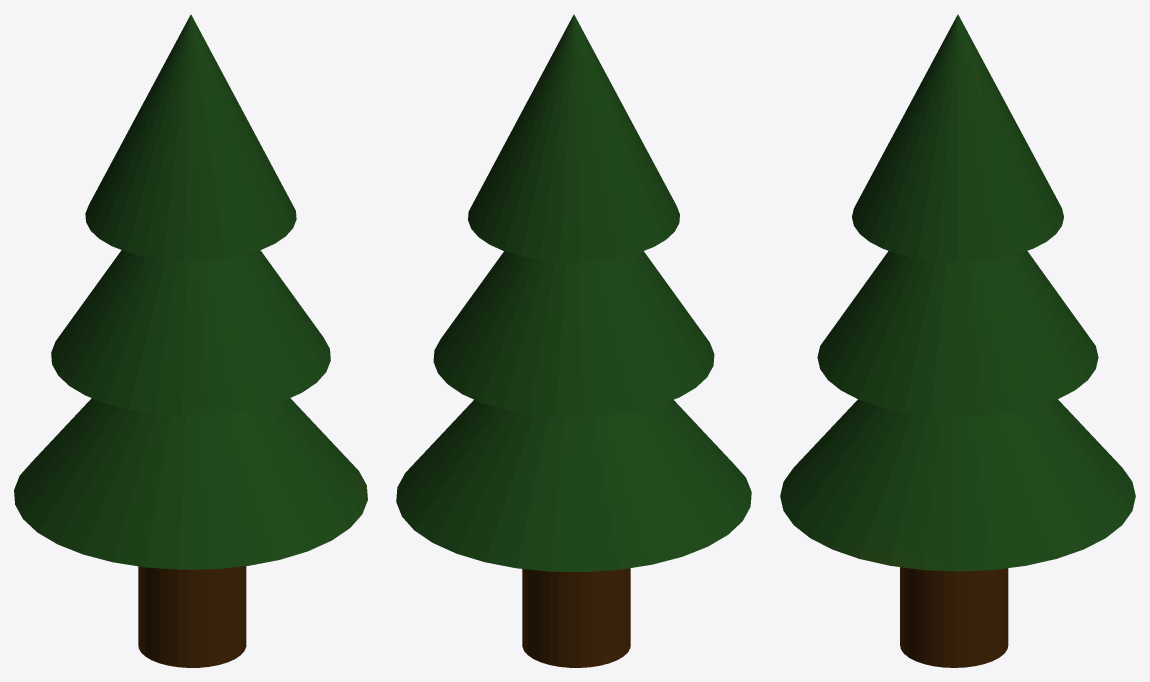
The model's file is Дерево.fbx.
The picture shows the model from 3 angles, left to right: view 1: azimuth 30°, elevation 25°; view 2: azimuth 150°, elevation 25°; view 3: azimuth 270°, elevation 25°; orthographic projection.
Visible parts, largest first — view 1: Дерево; view 2: Дерево; view 3: Дерево.
Boxes of the visible parts, box(x1,y1,x2,y2) form: Дерево: box(14, 14, 367, 667); Дерево: box(396, 14, 751, 667); Дерево: box(780, 14, 1135, 667).
Size of the model in its own units: 61.26 by 120 by 61.26.
